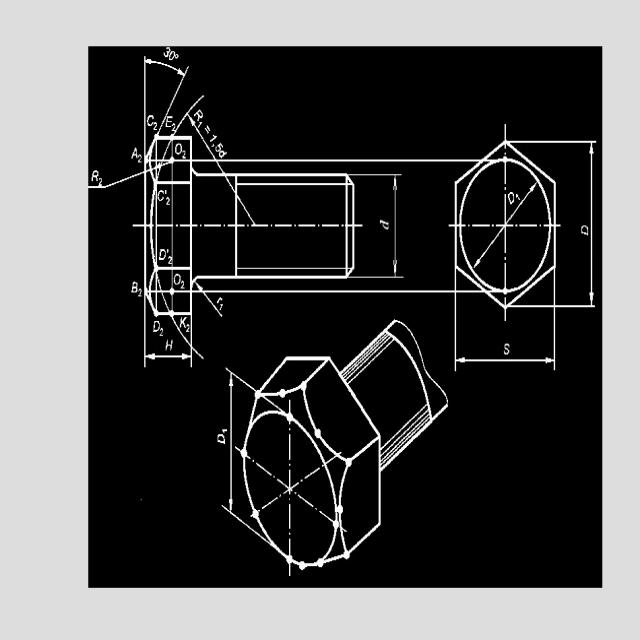marking_line: (557, 141, 599, 310), (452, 312, 555, 372), (356, 171, 404, 279), (140, 54, 191, 135), (223, 366, 241, 521), (144, 318, 193, 368), (473, 227, 504, 270), (506, 183, 536, 223), (179, 94, 208, 133), (196, 281, 224, 317), (144, 307, 149, 370)
numeric: (210, 134, 218, 144), (163, 47, 171, 57), (514, 191, 521, 202), (215, 143, 223, 152), (169, 49, 175, 61), (138, 288, 143, 297), (153, 121, 157, 131), (159, 327, 163, 337), (219, 302, 224, 310), (181, 279, 185, 289), (138, 154, 142, 163), (166, 197, 170, 206), (182, 150, 186, 159), (171, 122, 175, 131), (186, 323, 190, 332), (198, 121, 203, 128), (174, 53, 179, 60), (168, 256, 172, 264), (99, 177, 103, 184)
